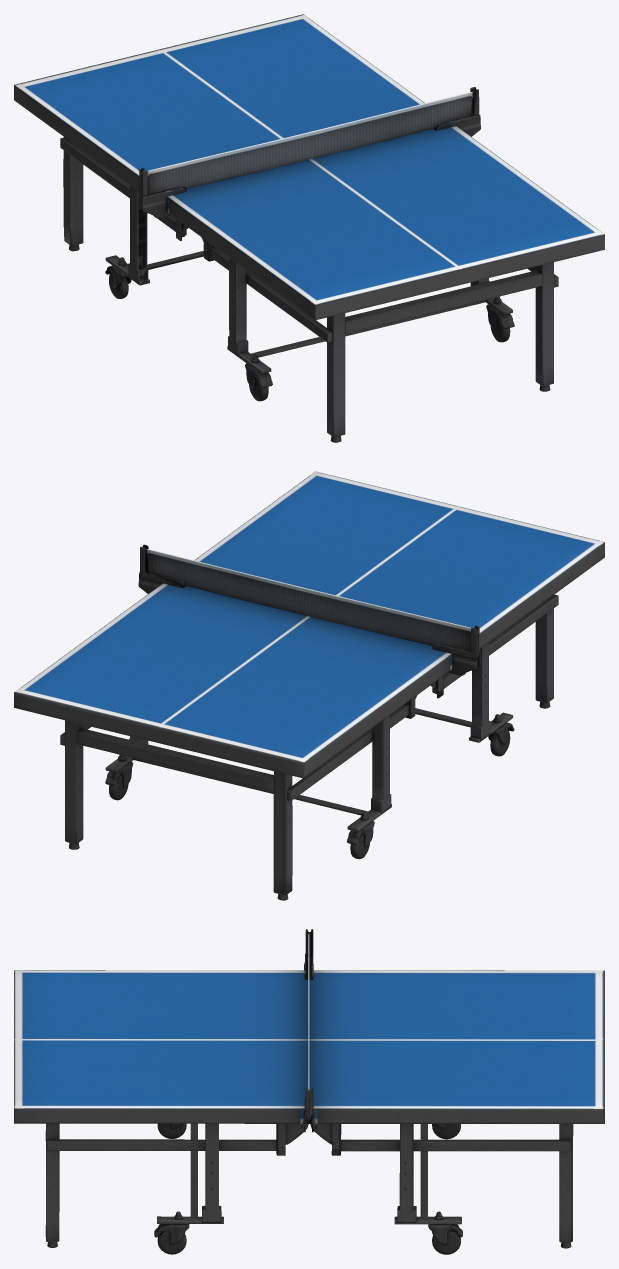
Rendered from pingpong.glb.
3 renders of one model, top to bottom at view 1: azimuth 30°, elevation 25°; view 2: azimuth 150°, elevation 25°; view 3: azimuth 270°, elevation 25°, orthographic. The views are drawn at different scales.
Parts seen in each view (by area): view 1: 10520_pingpongtable_L2; view 2: 10520_pingpongtable_L2; view 3: 10520_pingpongtable_L2.
Part boxes in pixels (x1,y1,x2,y2): 10520_pingpongtable_L2: [14, 14, 604, 442]; 10520_pingpongtable_L2: [14, 471, 604, 900]; 10520_pingpongtable_L2: [14, 929, 604, 1254].
Size of the model in its own units: 179 by 96.53 by 276.
1 material, 1 textured.
